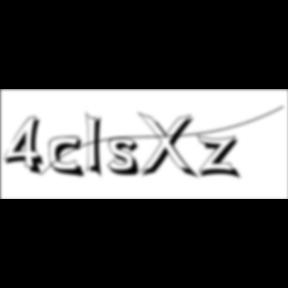4: (3, 115, 50, 179)
I: (85, 110, 109, 182)
X: (137, 112, 201, 182)
c: (49, 136, 89, 180)
s: (108, 137, 146, 179)
z: (197, 134, 246, 182)
